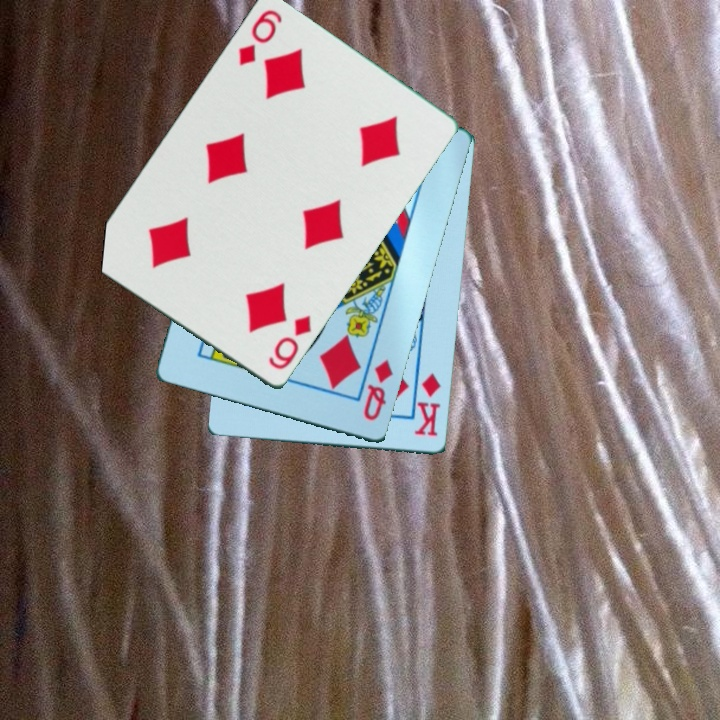6d: (234, 6, 286, 70), (264, 312, 315, 374)
Kd: (411, 370, 444, 440)
Qd: (360, 356, 397, 424)
